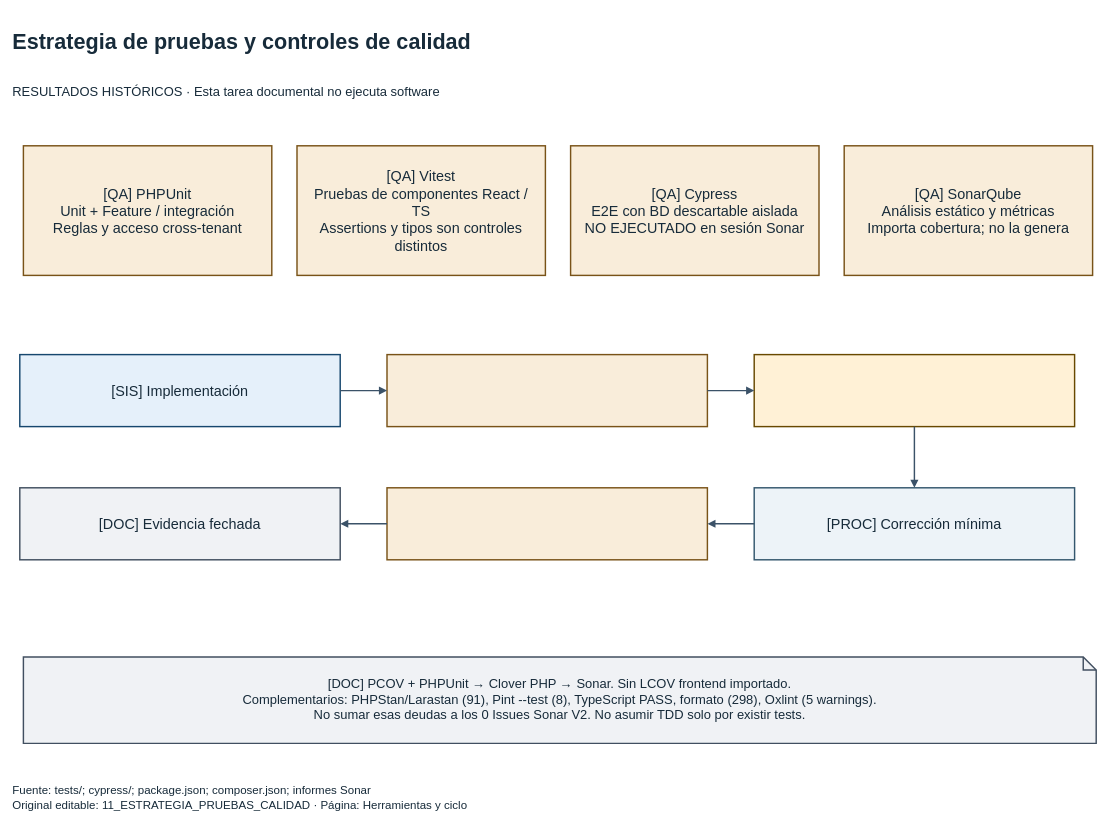
The diagram is 1119 pixels wide and 832 high, and some of its shapes have lost their labels. Here are the shapes that lost their labels. From the top down, the centre of each, then its label:
point 547,390: [QA] Pruebas y assertions
point 914,390: [H] Interpretar resultados
point 547,523: [QA] Reejecución
